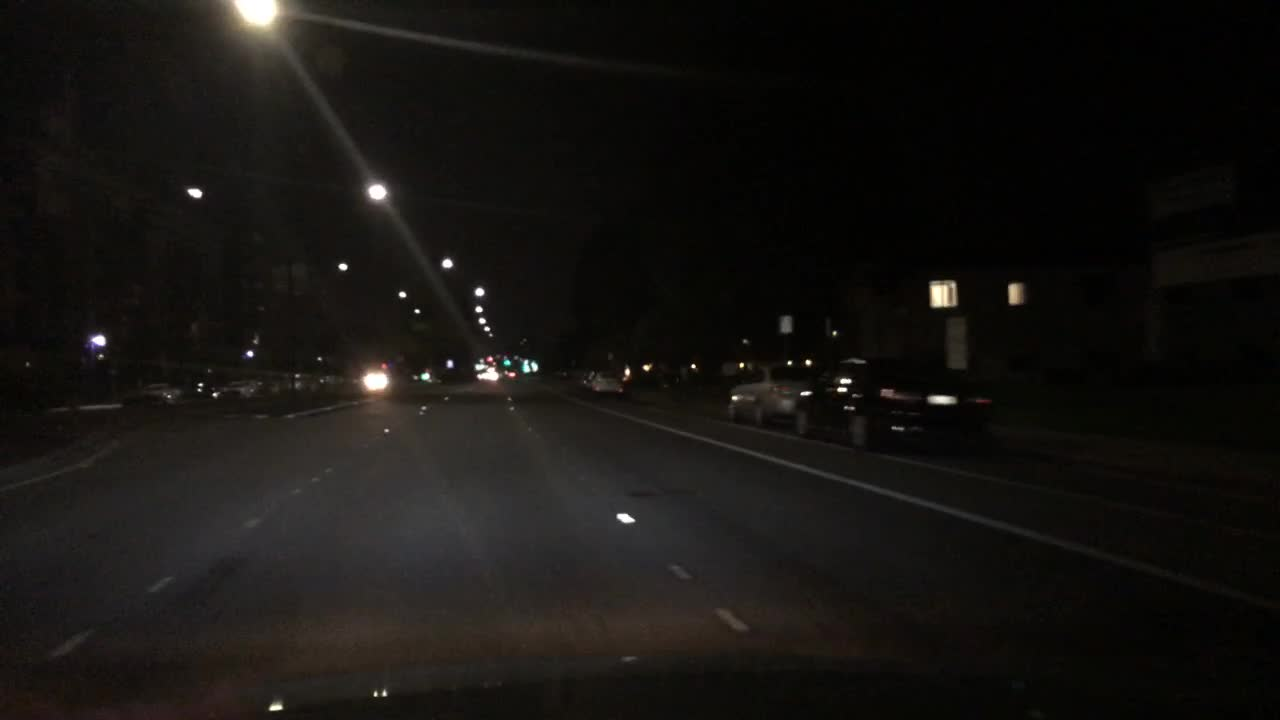car: (800, 356, 1000, 451), (725, 359, 821, 428), (118, 388, 175, 421), (177, 390, 218, 417), (247, 389, 284, 416), (587, 368, 624, 395), (280, 384, 314, 412), (216, 386, 245, 413), (313, 382, 338, 405), (361, 371, 390, 388), (335, 379, 362, 396), (476, 370, 499, 382), (582, 369, 594, 391), (502, 369, 521, 382)
traffic light: (501, 357, 512, 366)
traffic sign: (946, 314, 968, 373), (778, 315, 792, 334)
